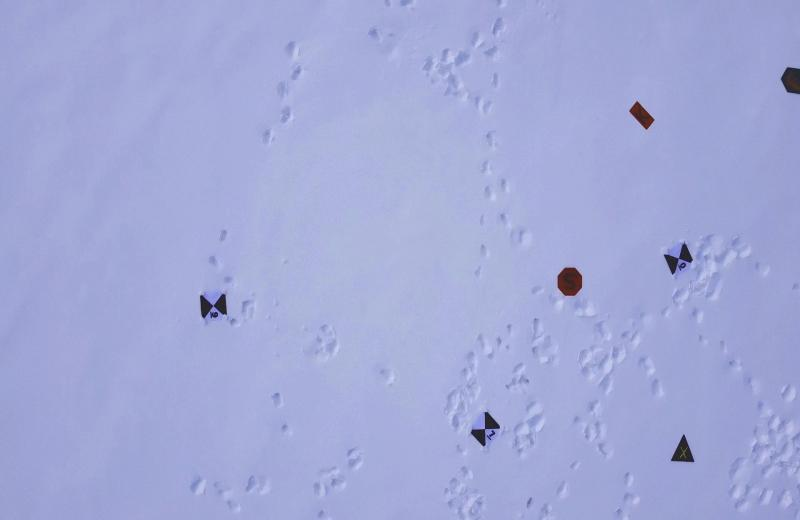Octagon: (555, 264, 584, 300)
Pentagon: (775, 64, 800, 94)
Rectangle: (628, 98, 654, 130)
Triangle: (670, 433, 696, 466)
